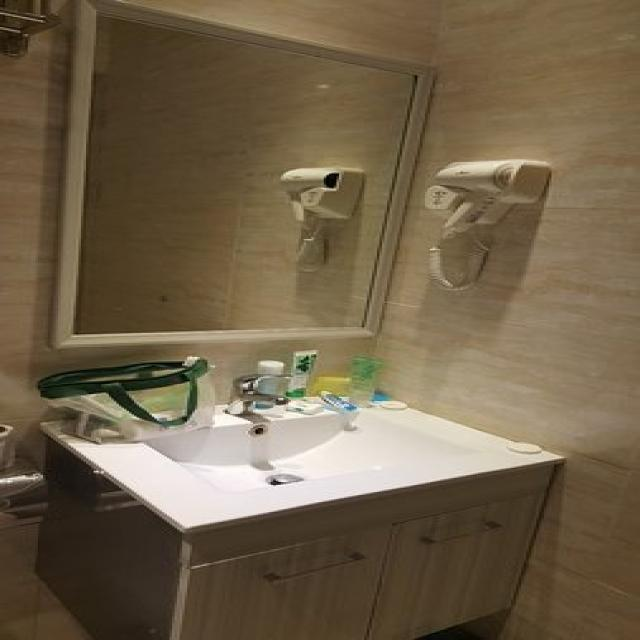dryer: (398, 146, 580, 309)
